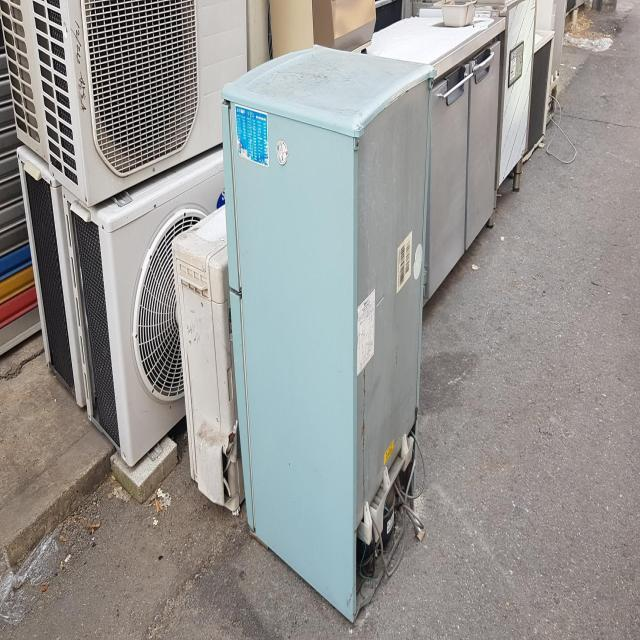refrigerator: (221, 44, 438, 625)
